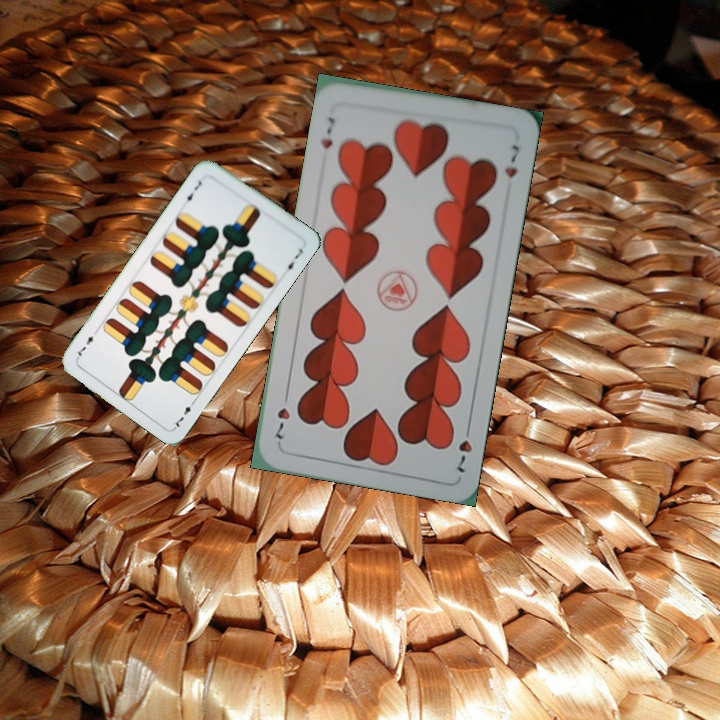E7: (169, 395, 198, 431), (180, 175, 205, 206)
H7: (453, 419, 475, 476), (317, 112, 339, 152)
